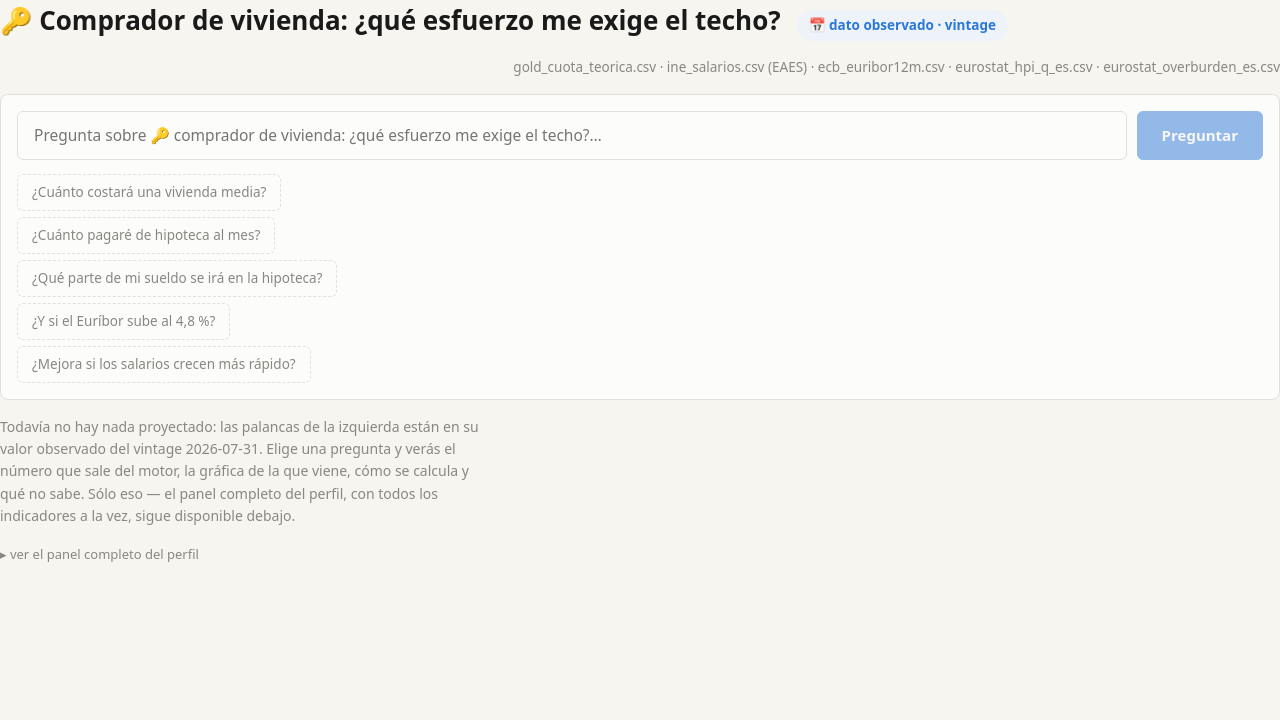
Persona — generic renderer over the API card › persona 03 renders h1, gauges, reds, chains, narrative
Check: the heading "🔑 Comprador de vivienda: ¿qué esfuerzo me exige el techo?" is shown, box [0,0,781,40]
Click the button with class "show-all". click: (99, 554)
box: [0,544,199,564]
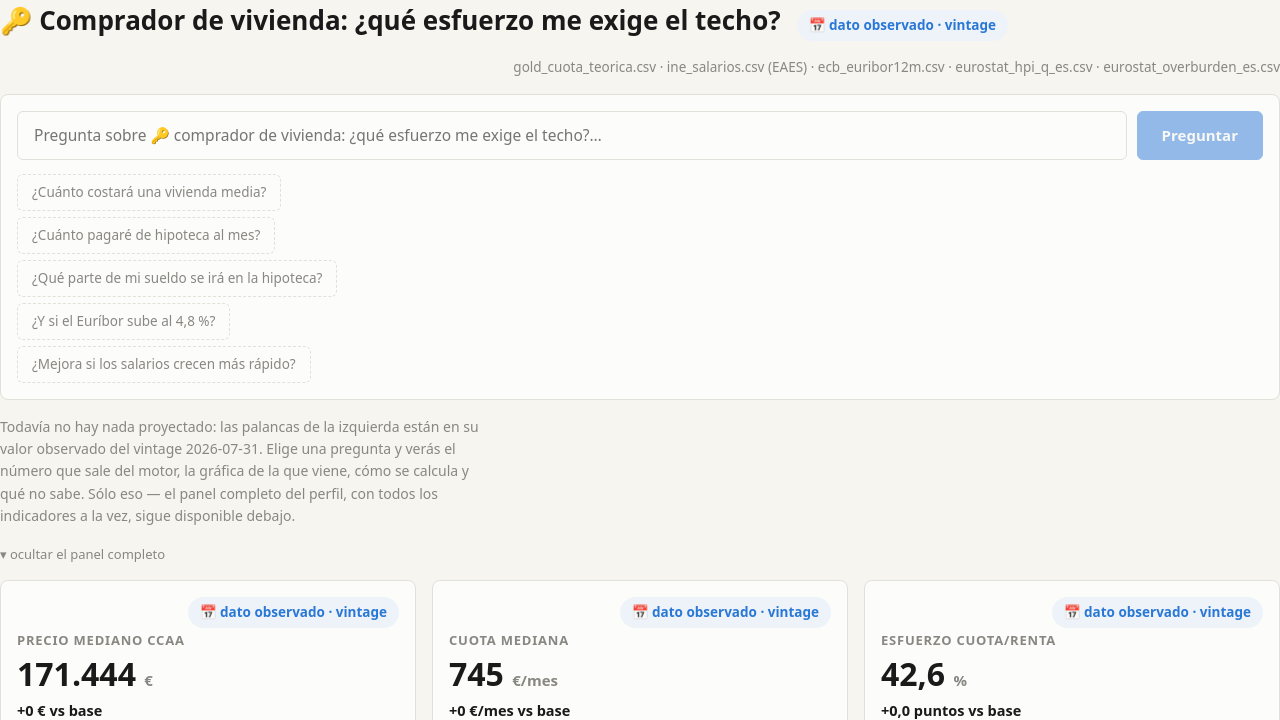
Check: the heading "🔑 Comprador de vivienda: ¿qué esfuerzo me exige el techo?" is shown, box [0,0,781,40]
Check: the number of elements with class "out" is 5
